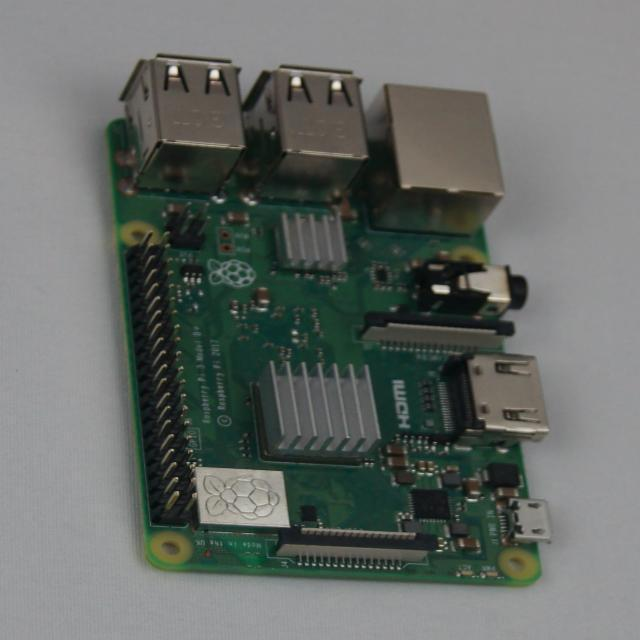Raspberry Pi 3 B-: (108, 55, 549, 586)
